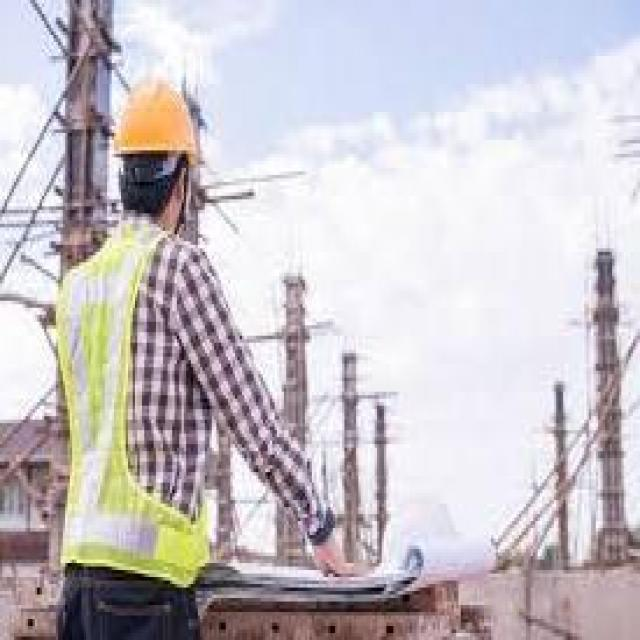Reflective-Jacket: (40, 214, 216, 602)
Safety-Helmet: (98, 63, 214, 185)
